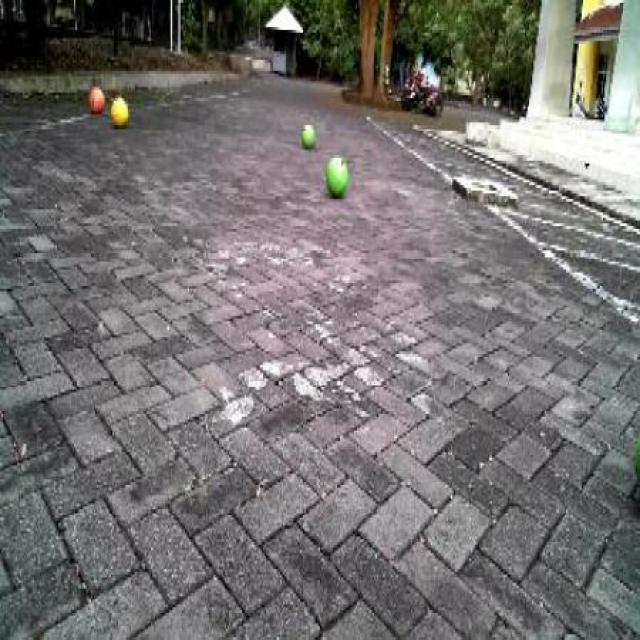buoy: (320, 149, 350, 197), (110, 90, 130, 128), (298, 118, 315, 148), (89, 83, 104, 113)
